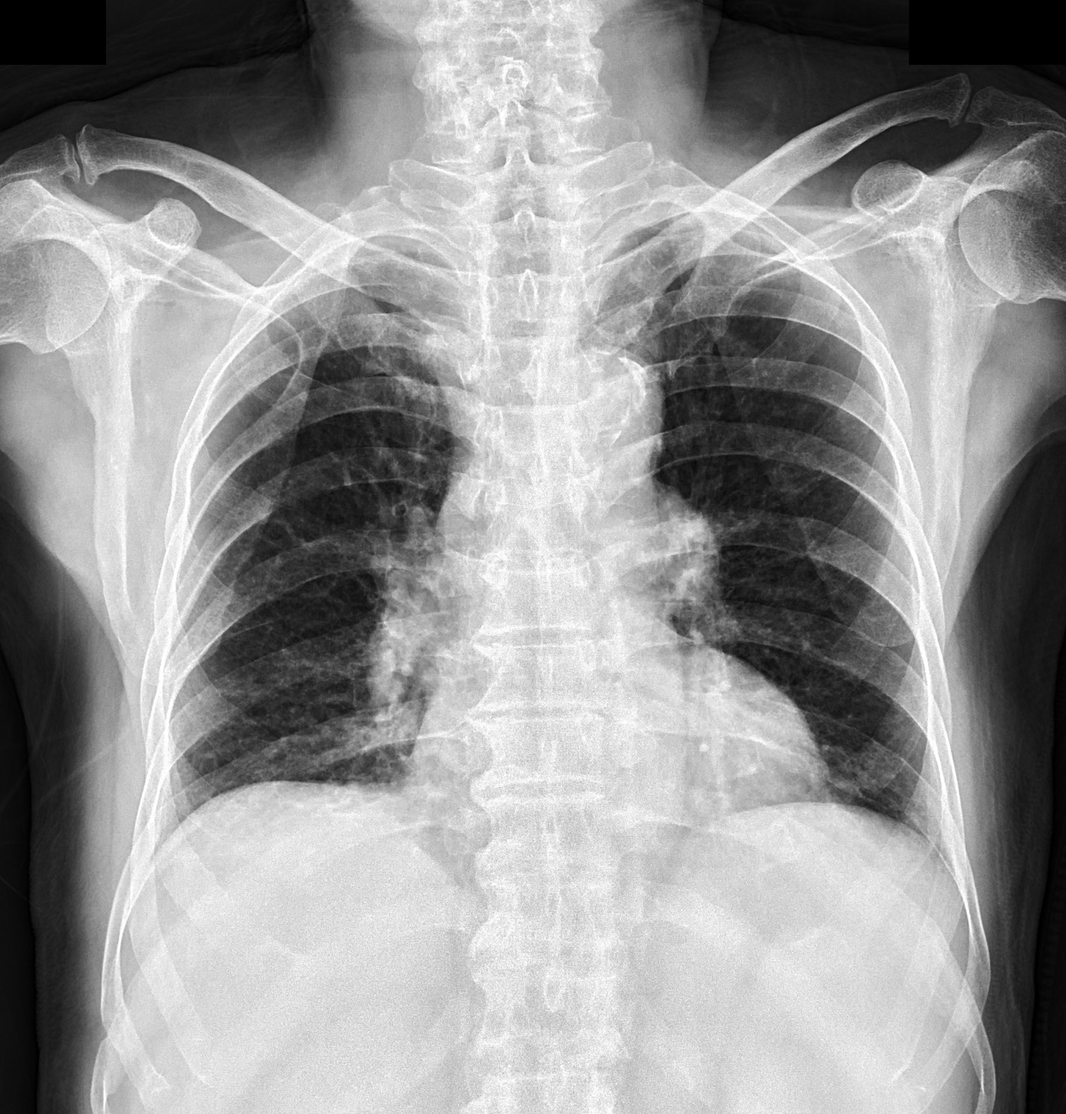Aortic enlargement: (538, 346, 663, 482)
